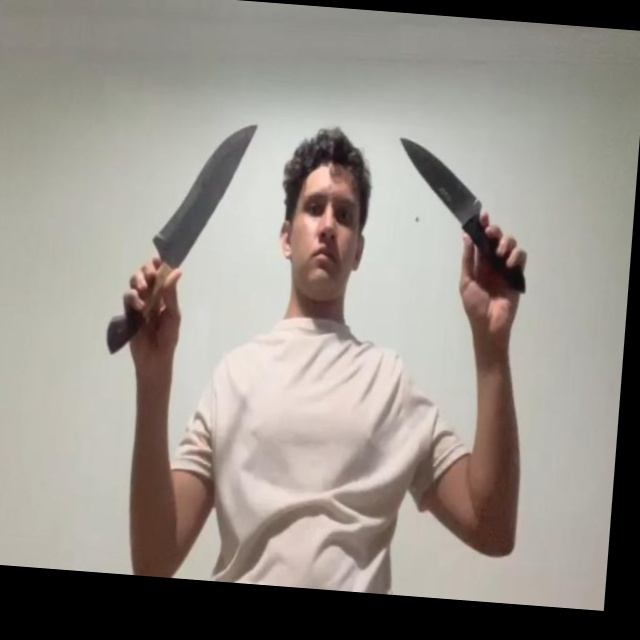Sharp-Object: (152, 116, 259, 256), (396, 136, 484, 224)
